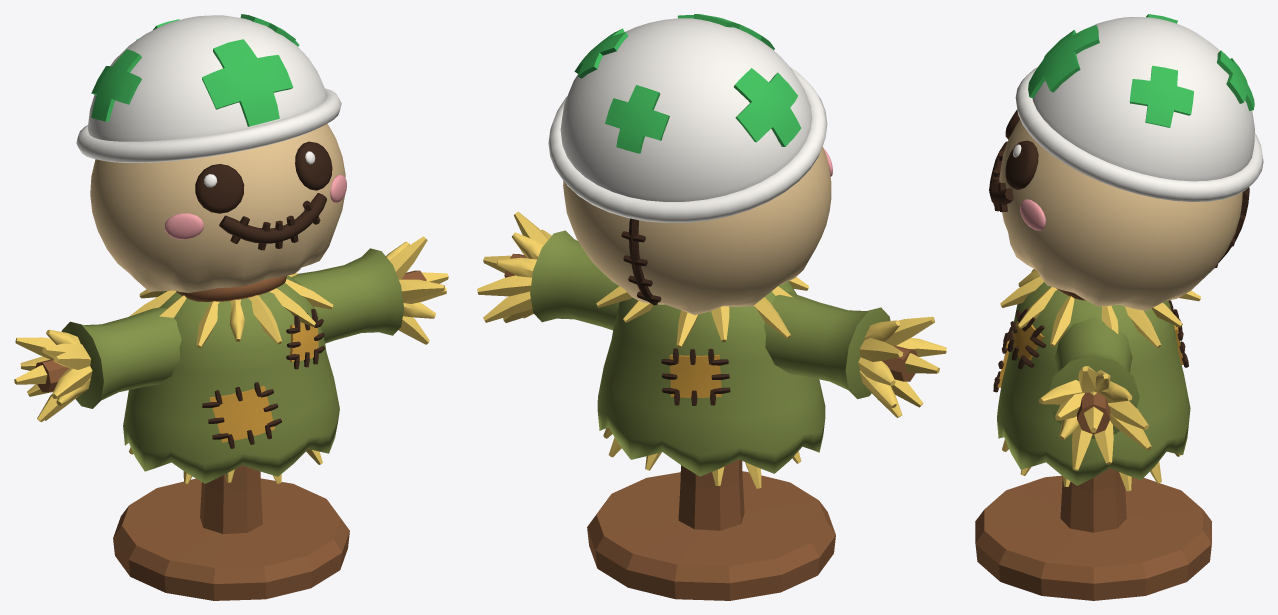
File: BrawlScarecrow.fbx
3 views of the same model, side by side, from view 1: azimuth 30°, elevation 25°; view 2: azimuth 150°, elevation 25°; view 3: azimuth 270°, elevation 25° (orthographic). The views are drawn at different scales.
Parts seen in each view (by area): view 1: Scarecrow; view 2: Scarecrow; view 3: Scarecrow.
Part boxes in pixels (x1,y1,x2,y2): Scarecrow: (14, 14, 448, 600); Scarecrow: (477, 14, 946, 600); Scarecrow: (975, 14, 1263, 600).
Bounding box in the file's own units: 1.28 × 1.44 × 0.7245.
